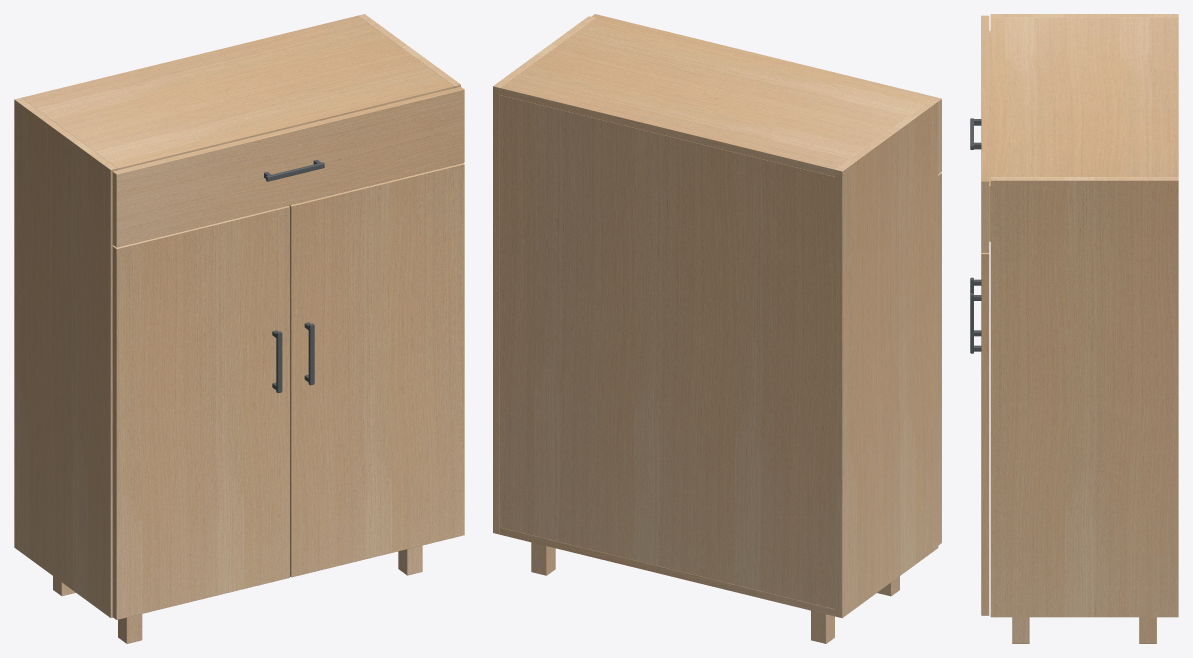
The model's file is cabinet.glb.
The picture shows the model from 3 angles, left to right: view 1: azimuth 30°, elevation 25°; view 2: azimuth 150°, elevation 25°; view 3: azimuth 270°, elevation 25°; orthographic projection. The views are drawn at different scales.
Visible parts, largest first — view 1: left_door, right_door, left_side, top_panel, drawer_fascia, right_side, foot_fl, foot_fr; view 2: back_panel, left_side, top_panel, right_side, bottom_panel, drawer_fascia, left_door, foot_rr, foot_rl; view 3: right_side, top_panel, right_door, drawer_fascia, left_side, foot_fr, foot_rr, right_handle.
Boxes of the visible parts, bbox=[...] form: left_door: bbox=[112, 205, 289, 619]; right_door: bbox=[289, 163, 464, 577]; left_side: bbox=[14, 98, 117, 617]; top_panel: bbox=[21, 15, 453, 169]; drawer_fascia: bbox=[112, 86, 464, 247]; right_side: bbox=[358, 14, 460, 87]; foot_fl: bbox=[118, 614, 142, 643]; foot_fr: bbox=[398, 545, 422, 575]; back_panel: bbox=[500, 95, 835, 608]; left_side: bbox=[835, 99, 938, 617]; top_panel: bbox=[500, 17, 930, 176]; right_side: bbox=[493, 16, 595, 534]; bottom_panel: bbox=[500, 527, 835, 616]; drawer_fascia: bbox=[592, 14, 941, 173]; left_door: bbox=[938, 172, 941, 545]; foot_rr: bbox=[531, 542, 555, 575]; foot_rl: bbox=[811, 610, 834, 643]; right_side: bbox=[990, 177, 1178, 617]; top_panel: bbox=[990, 17, 1178, 177]; right_door: bbox=[981, 252, 989, 615]; drawer_fascia: bbox=[981, 15, 989, 252]; left_side: bbox=[990, 14, 1178, 17]; foot_fr: bbox=[1012, 617, 1029, 643]; foot_rr: bbox=[1139, 617, 1156, 643]; right_handle: bbox=[970, 293, 981, 353].
Bounding box in the file's own units: 0.9 × 1.2 × 0.475.
5 materials, 1 textured.
